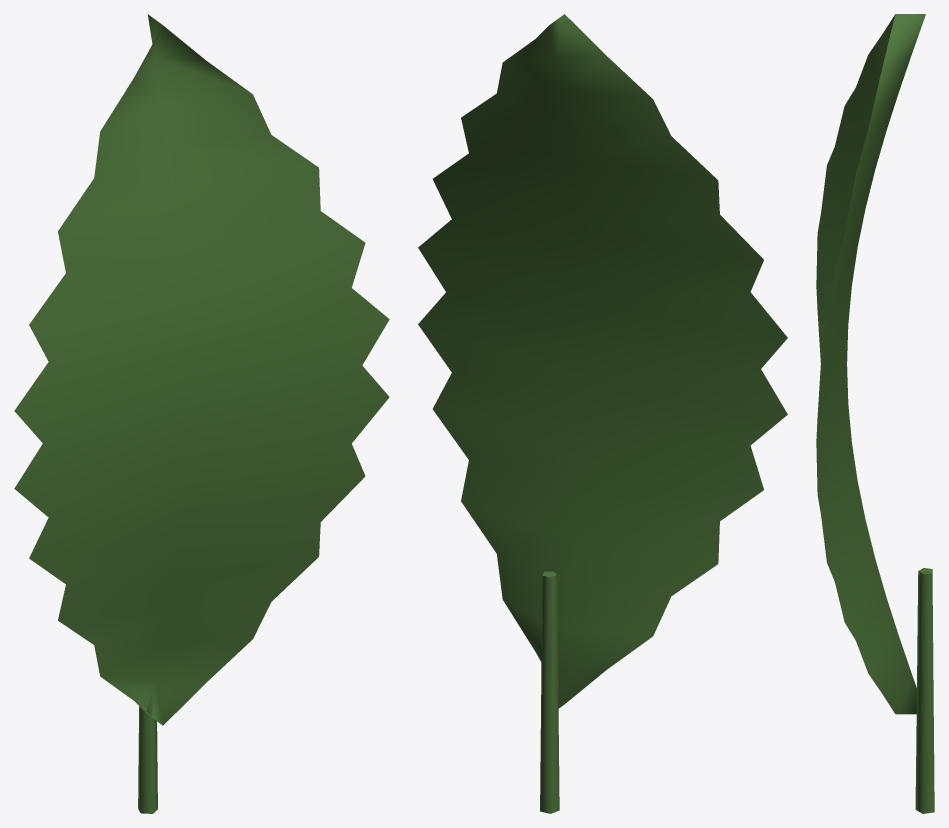
File: leaf-oval.glb
3 renders of one model, left to right at view 1: azimuth 30°, elevation 25°; view 2: azimuth 150°, elevation 25°; view 3: azimuth 270°, elevation 25°, orthographic.
Parts seen in each view (by area): view 1: tint-leaf, tint-petiole; view 2: tint-leaf, tint-petiole; view 3: tint-leaf, tint-petiole.
Part boxes in pixels (bbox=[...]): tint-leaf: bbox=[14, 14, 389, 725]; tint-petiole: bbox=[138, 692, 157, 813]; tint-leaf: bbox=[418, 14, 787, 708]; tint-petiole: bbox=[540, 571, 559, 813]; tint-leaf: bbox=[816, 14, 925, 714]; tint-petiole: bbox=[915, 568, 934, 813].
Size of the model in its own units: 0.4935 by 1 by 0.1347.
